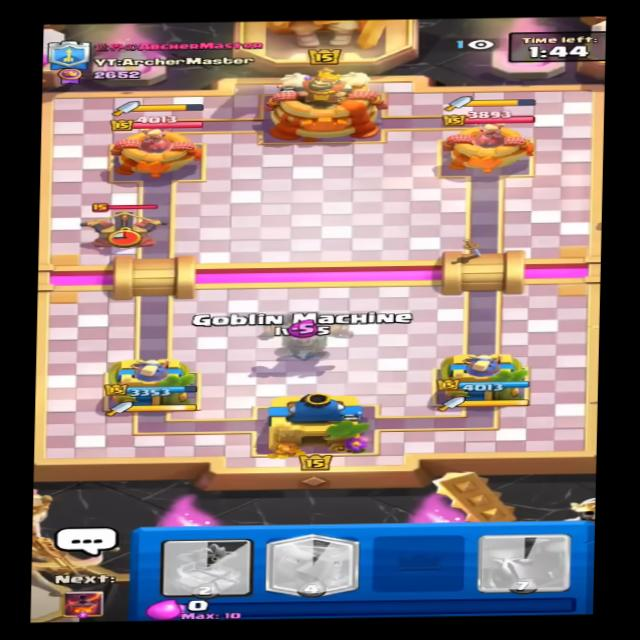Xbow: (82, 201, 176, 255)
